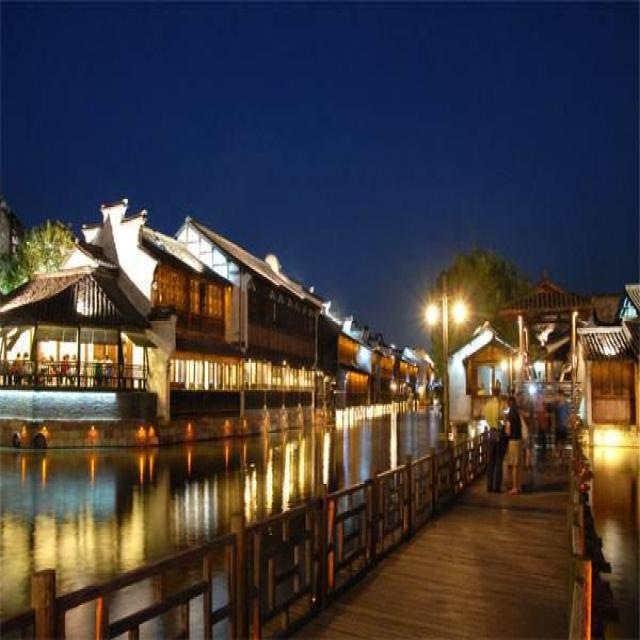other: (151, 341, 329, 390), (580, 417, 632, 474), (419, 290, 472, 344), (319, 402, 411, 421)
